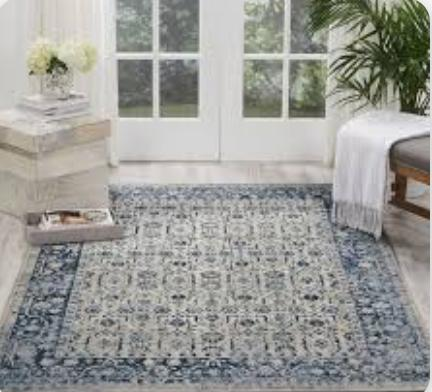carpet: (1, 185, 429, 390)
